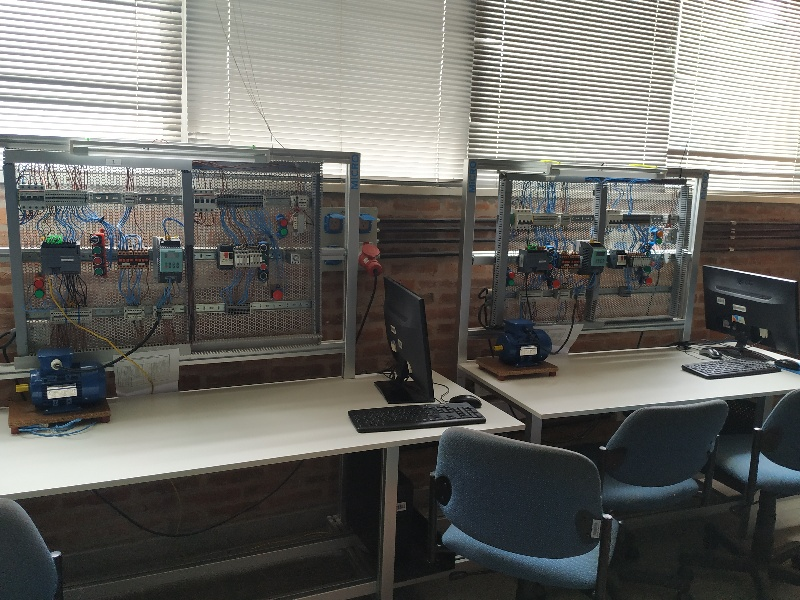Tablero 1: (8, 154, 327, 348)
Tablero 2: (504, 172, 688, 332)
